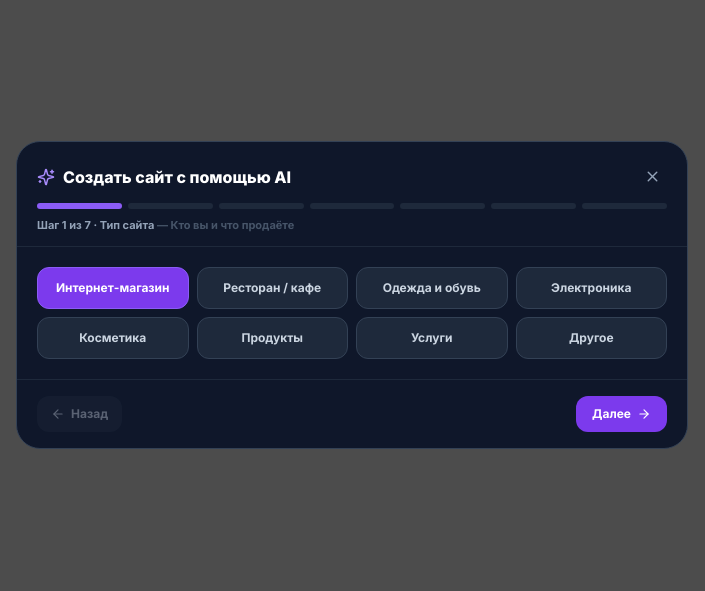
Scenario: SiteWizard: UX › клик по пройденному шагу в прогресс-баре возвращает на него
Click the button "Далее": [622, 414] box top-left (576, 396), bottom-right (667, 432)
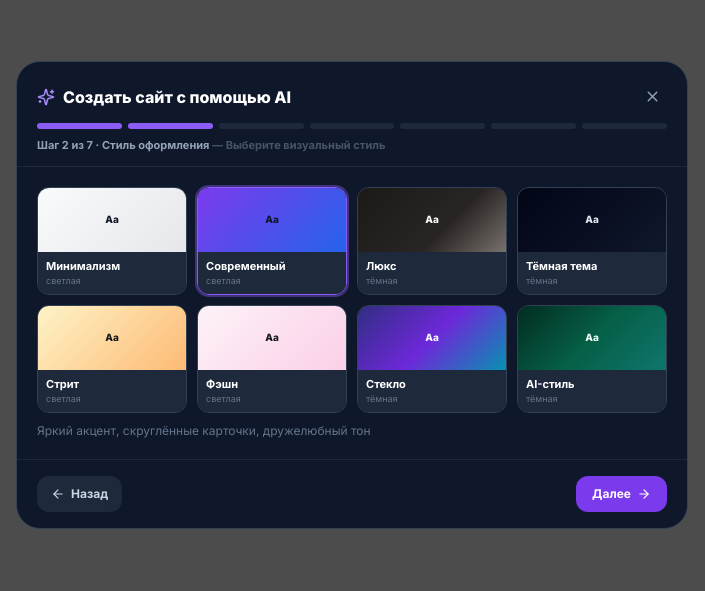
Click the button "Далее": [622, 494] box top-left (576, 476), bottom-right (667, 512)
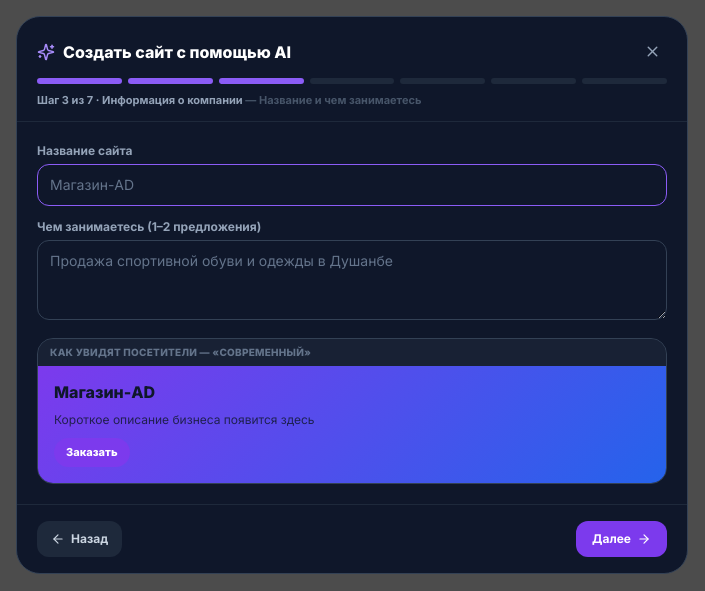
Expected: the text "Шаг 3 из 7" is shown, top-left (37, 93), bottom-right (422, 107)
Click the element titled "Вернуться: Тип сайта": [79, 81] box top-left (37, 78), bottom-right (122, 84)
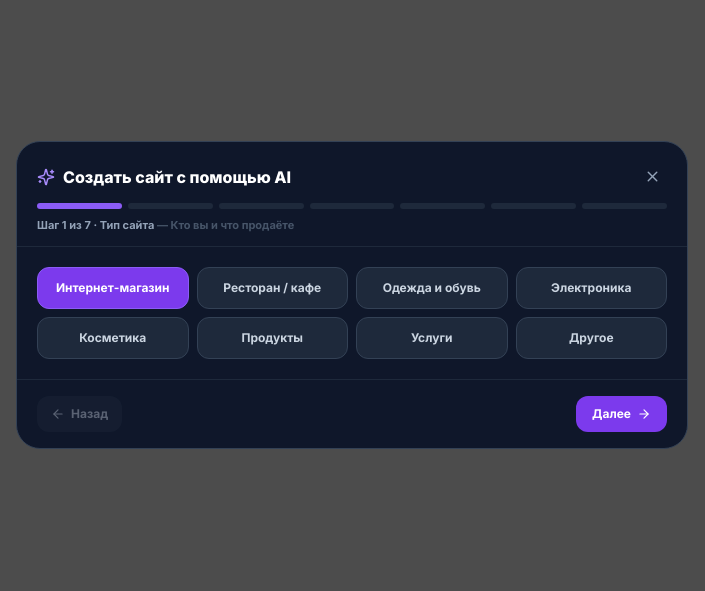
Expected: the text "Шаг 1 из 7 · Тип сайта — Кто вы и что продаёте" is shown, top-left (37, 218), bottom-right (294, 232)
